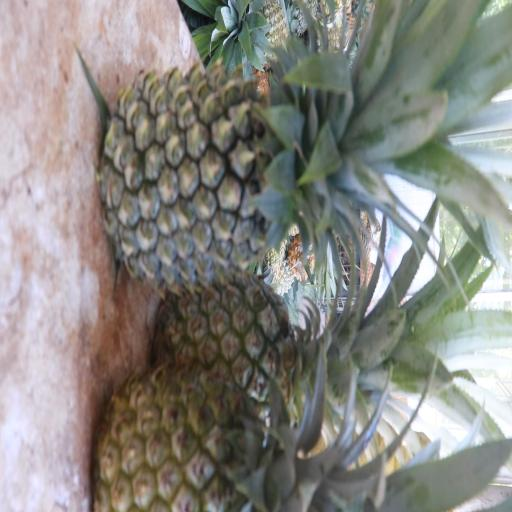------------------------------: (84, 354, 429, 512), (150, 250, 388, 442)
